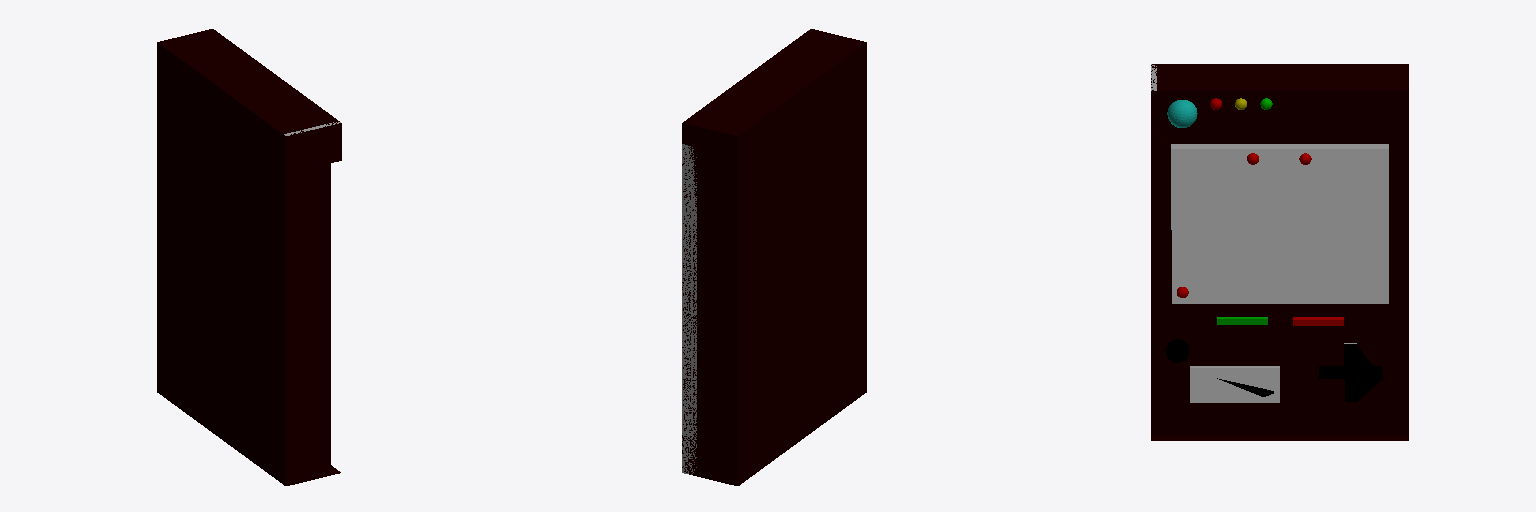
File: pokedex.obj
3 renders of one model, left to right at view 1: azimuth 30°, elevation 25°; view 2: azimuth 150°, elevation 25°; view 3: azimuth 270°, elevation 25°, orthographic.
Parts seen in each view (by area): view 1: Pokedex_Cube; view 2: Pokedex_Cube; view 3: Pokedex_Cube, Sphere.
Part boxes in pixels (x1,y1,x2,y2): Pokedex_Cube: (157, 29, 341, 485); Pokedex_Cube: (682, 29, 866, 485); Pokedex_Cube: (1151, 64, 1408, 440); Sphere: (1167, 100, 1197, 127).
Size of the model in its own units: 0.6172 by 3 by 2.